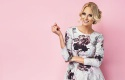female: (76, 2, 101, 30)
